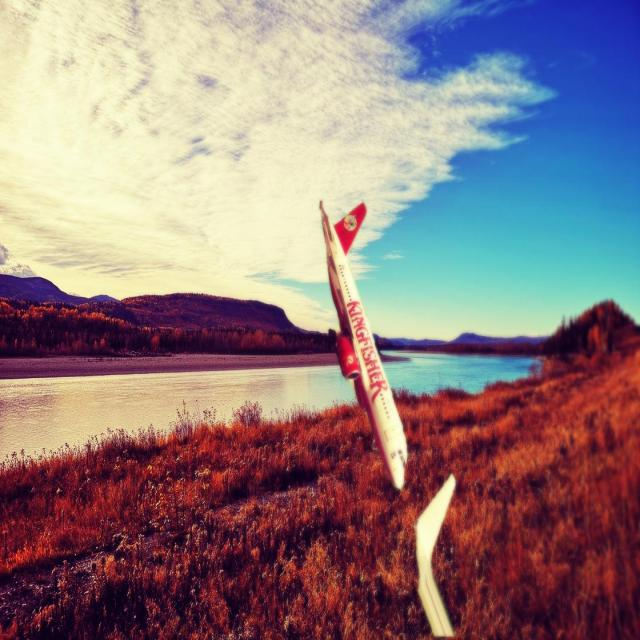airplane: (318, 198, 408, 491), (415, 474, 453, 636)
